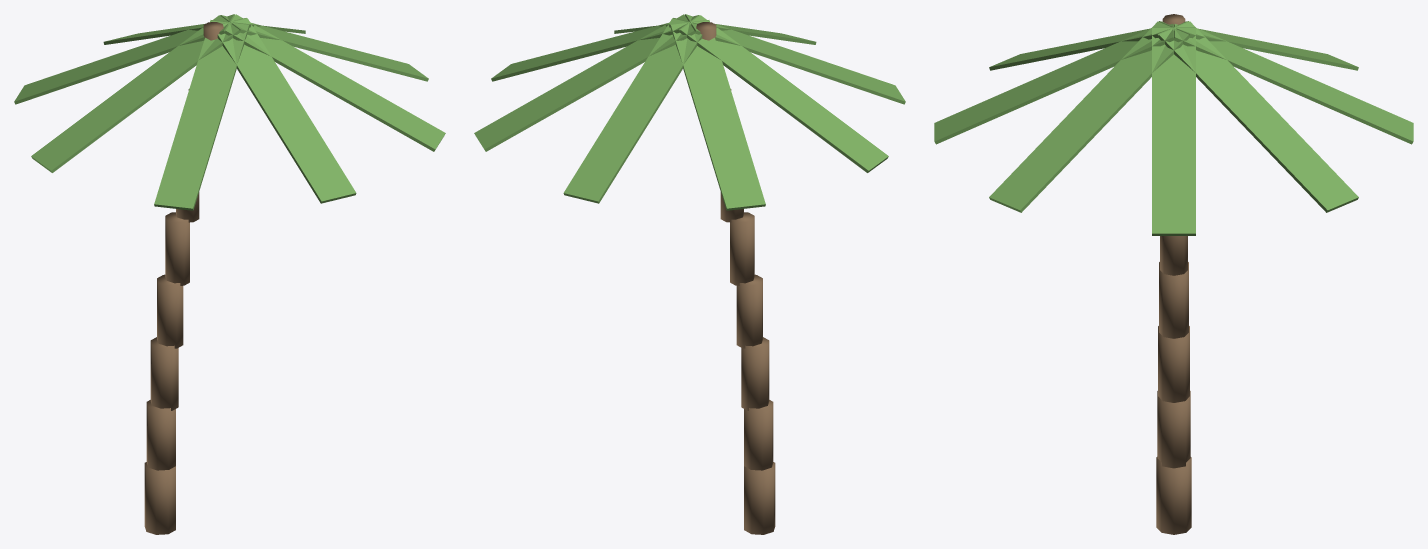
Rendered from tree_palm.glb.
3 renders of one model, left to right at view 1: azimuth 30°, elevation 25°; view 2: azimuth 150°, elevation 25°; view 3: azimuth 270°, elevation 25°, orthographic. The views are drawn at different scales.
Visible parts, largest first — view 1: Tree.006; view 2: Tree.006; view 3: Tree.006.
Part boxes in pixels (x1,y1,x2,y2): Tree.006: [14, 14, 445, 534]; Tree.006: [474, 14, 905, 534]; Tree.006: [934, 14, 1413, 534].
Bounding box in the file's own units: 6.5 × 8.05 × 6.5.
